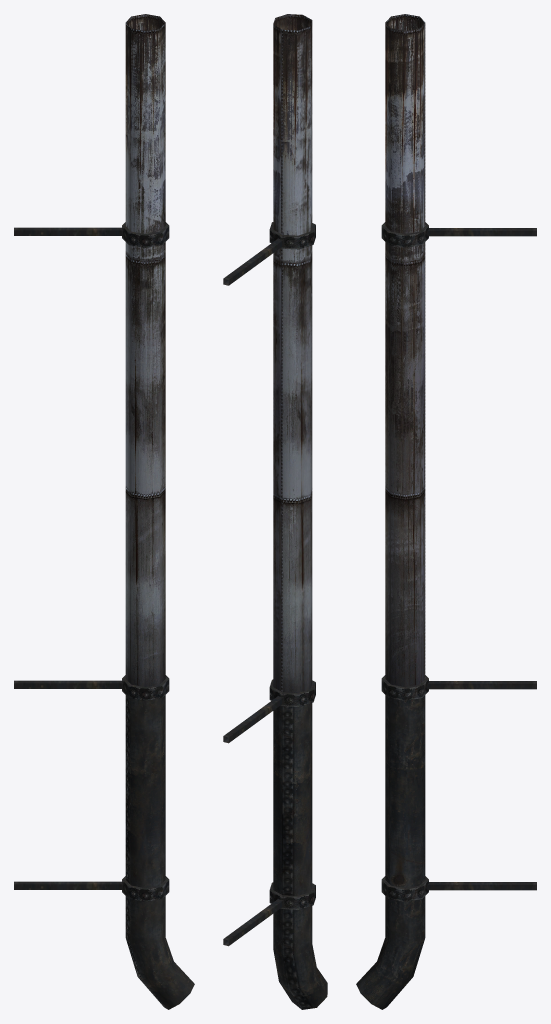
The model's file is rainpipe_4m_bottom.DAE.
The picture shows the model from 3 angles, left to right: view 1: azimuth 90°, elevation 25°; view 2: azimuth 150°, elevation 25°; view 3: azimuth 270°, elevation 25°; orthographic projection.
Parts seen in each view (by area): view 1: Object006, Cylinder002; view 2: Object006, Cylinder002; view 3: Object006, Cylinder002.
Boxes of the visible parts, left/top/right/bottom form: Object006: left=125, top=14, right=165, bottom=686; Cylinder002: left=14, top=222, right=194, bottom=1009; Object006: left=273, top=14, right=312, bottom=692; Cylinder002: left=223, top=222, right=327, bottom=1009; Object006: left=385, top=14, right=425, bottom=686; Cylinder002: left=356, top=222, right=536, bottom=1009.
Size of the model in its own units: 0.175 by 3.99 by 0.6647.
